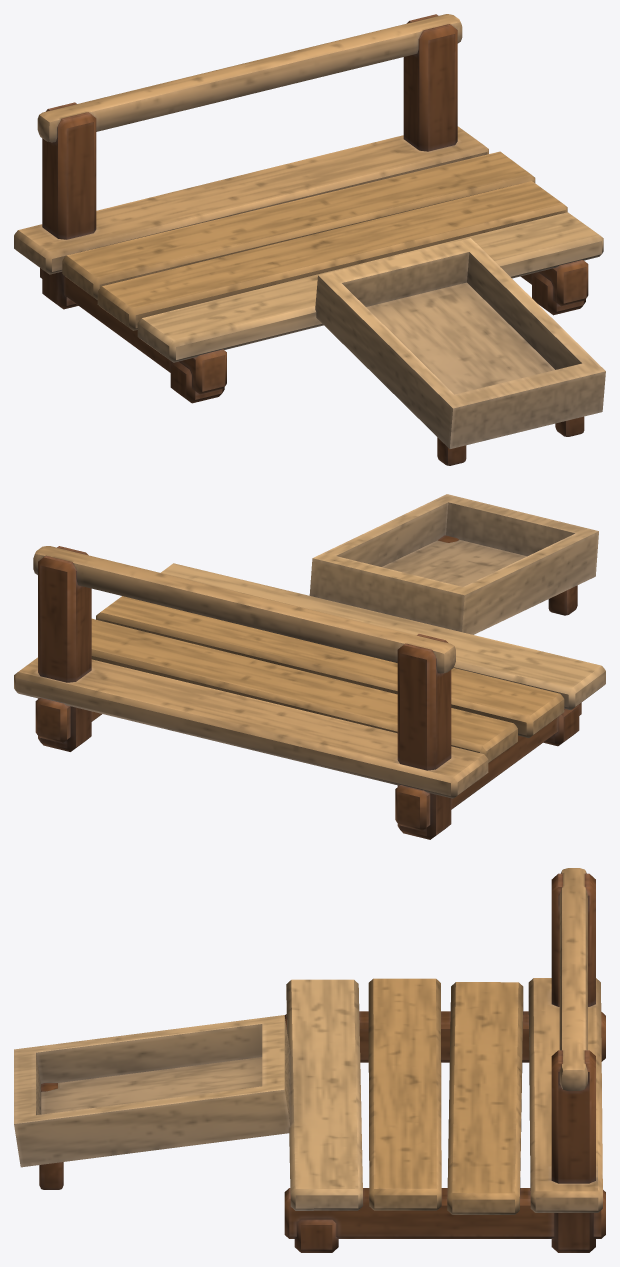
Rendered from PourSpot.glb.
3 renders of one model, top to bottom at view 1: azimuth 30°, elevation 25°; view 2: azimuth 150°, elevation 25°; view 3: azimuth 270°, elevation 25°, orthographic.
Parts seen in each view (by area): view 1: PourSpot; view 2: PourSpot; view 3: PourSpot.
Part boxes in pixels (x1,y1,x2,y2): PourSpot: (14,14,605,465); PourSpot: (14,494,605,839); PourSpot: (14,868,605,1252).
Bounding box in the file's own units: 6.47 × 2.62 × 7.37.
1 material, 1 textured.
